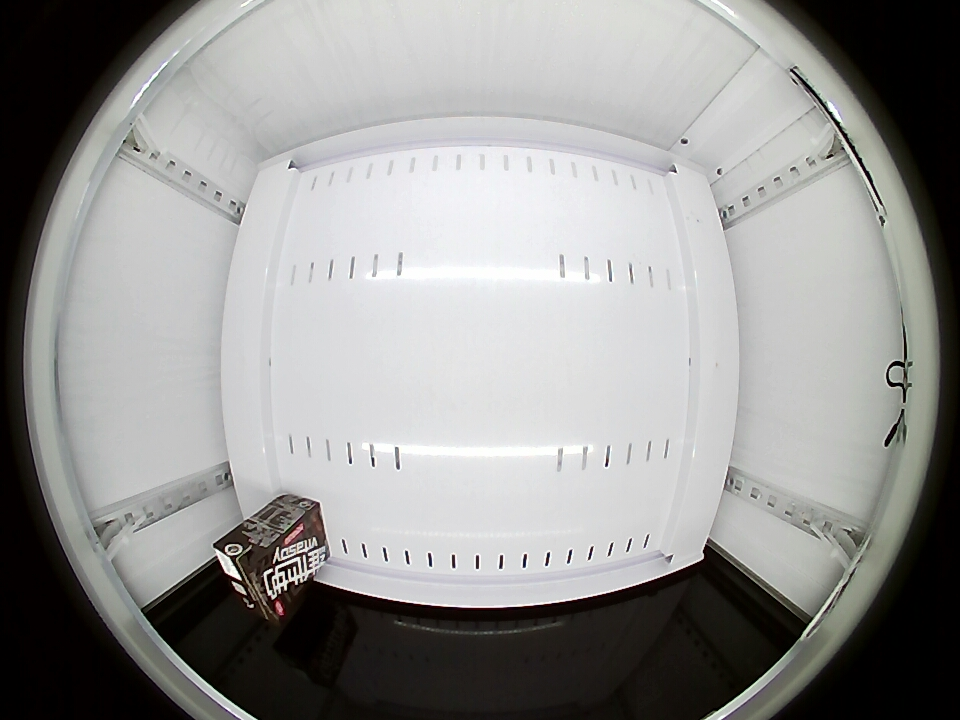weitanai2: (213, 526, 293, 623)
